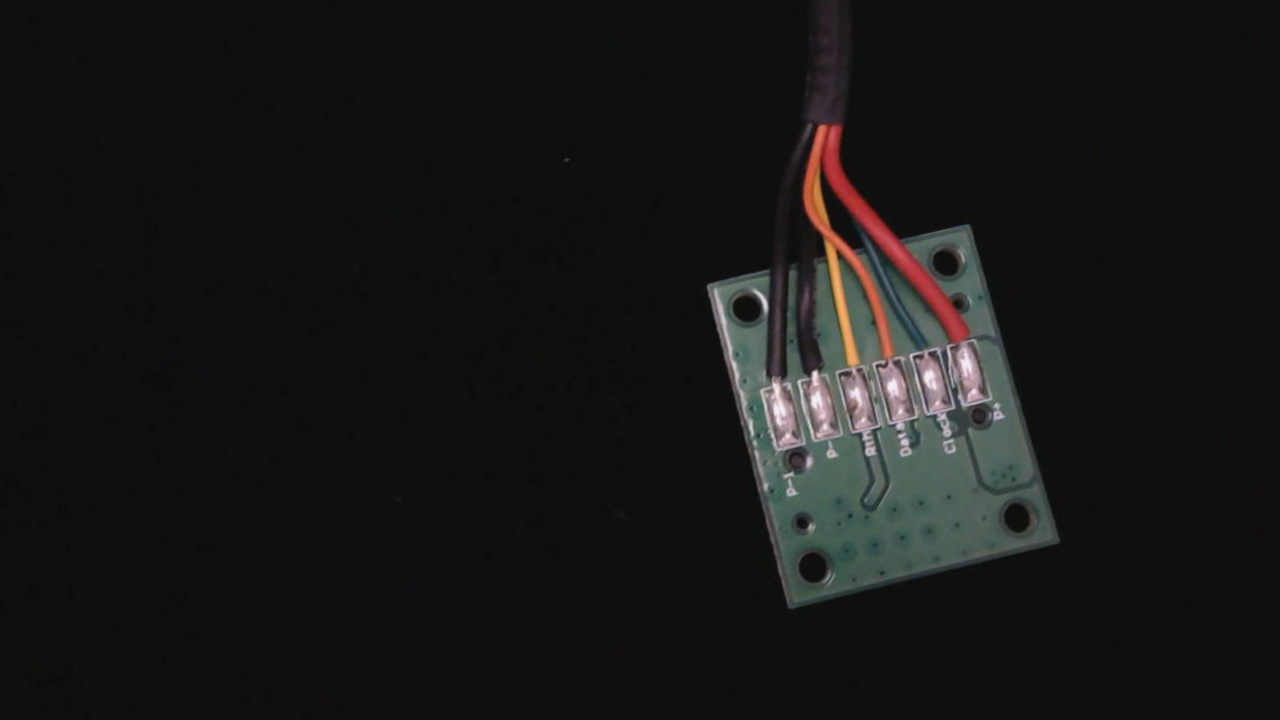Black: (788, 323, 831, 394)
Black1: (751, 335, 794, 403)
Green: (900, 309, 943, 370)
Orange: (868, 325, 906, 376)
Red: (935, 294, 978, 358)
Yellow: (826, 320, 873, 387)
